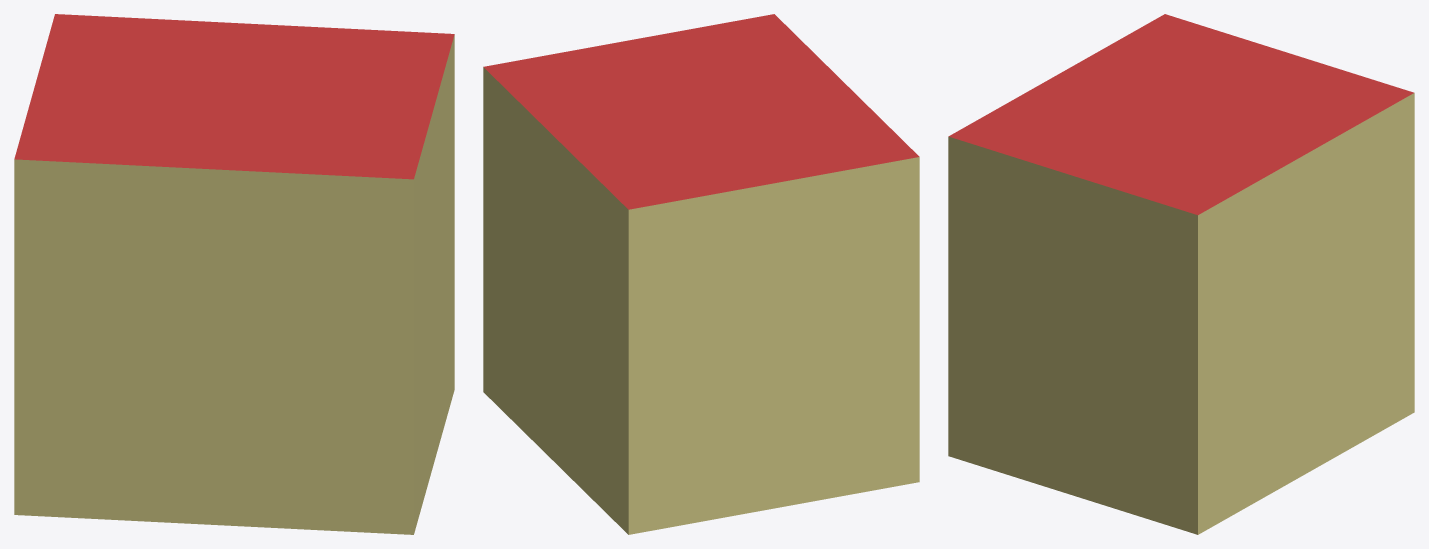
3 views of the same model, side by side, from view 1: azimuth 30°, elevation 25°; view 2: azimuth 150°, elevation 25°; view 3: azimuth 270°, elevation 25° (orthographic). The views are drawn at different scales.
Bounding box in the file's own units: 8.99 × 8.8 × 6.66.
